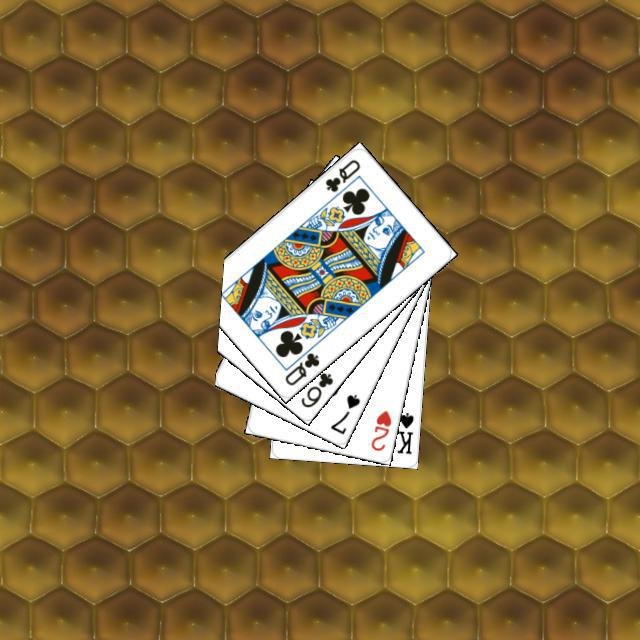2h: (366, 405, 393, 453)
6c: (296, 367, 335, 410)
7s: (325, 389, 362, 436)
Ks: (392, 408, 416, 456)
Qc: (279, 340, 321, 387), (320, 154, 362, 194)
